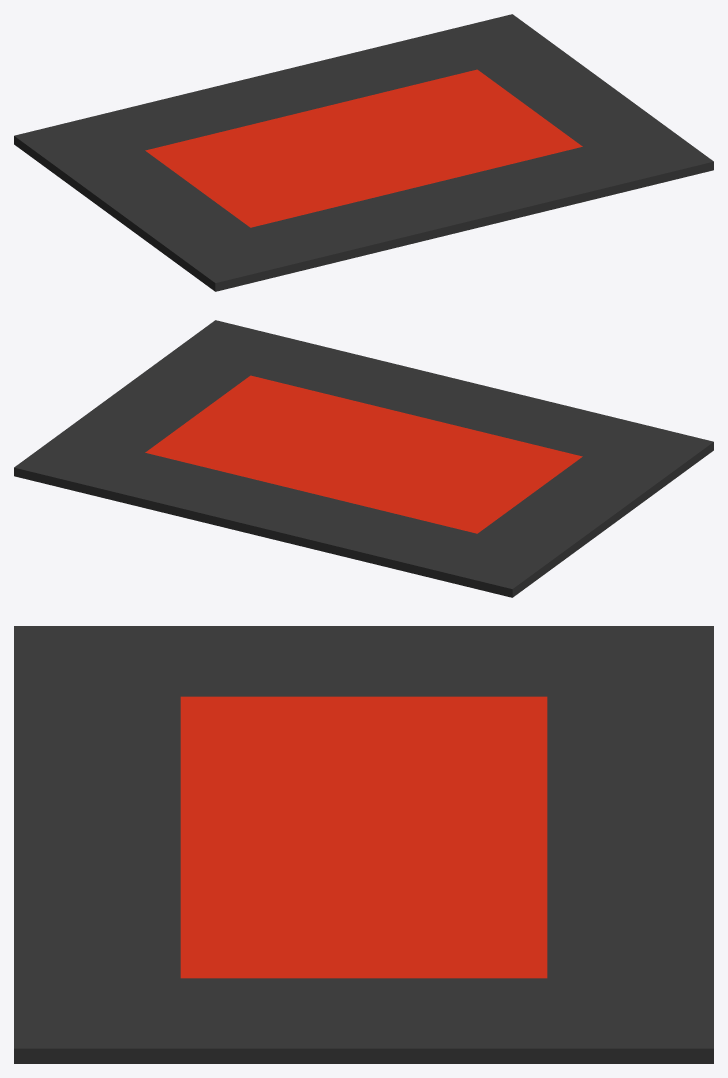
File: Karate Mat.fbx
The picture shows the model from 3 angles, top to bottom: view 1: azimuth 30°, elevation 25°; view 2: azimuth 150°, elevation 25°; view 3: azimuth 270°, elevation 25°; orthographic projection. The views are drawn at different scales.
Visible parts, largest first — view 1: Karate Mat; view 2: Karate Mat; view 3: Karate Mat.
Boxes of the visible parts, x1,y1,x2,y2 form: Karate Mat: (14, 14, 713, 291); Karate Mat: (14, 320, 713, 597); Karate Mat: (14, 626, 713, 1063).
Size of the model in its own units: 3000 by 50 by 2100.
